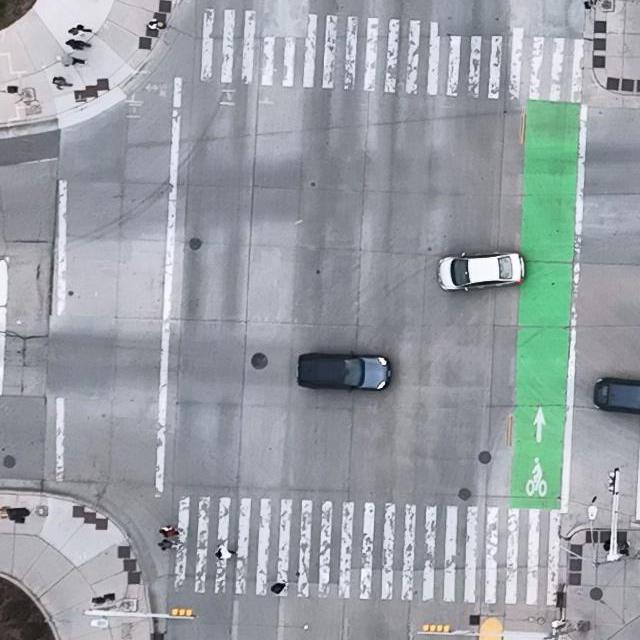car: (298, 351, 391, 393), (438, 249, 526, 291), (594, 377, 640, 415)
